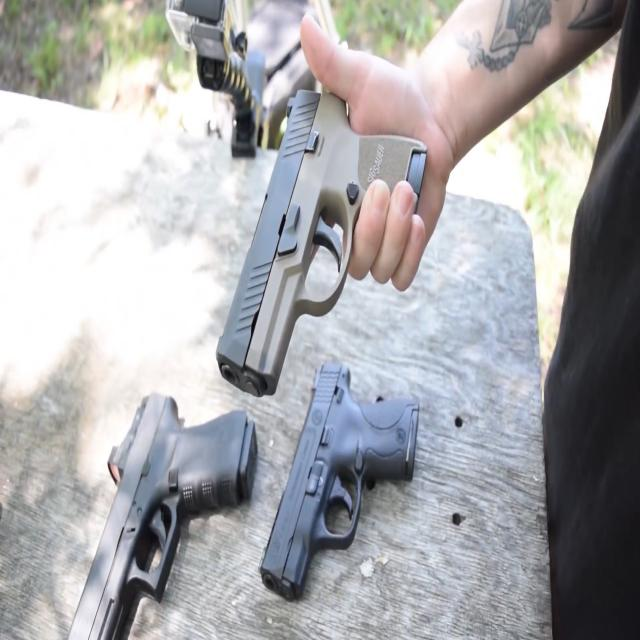handgun: (179, 60, 462, 428), (39, 364, 263, 640), (253, 358, 443, 598)
